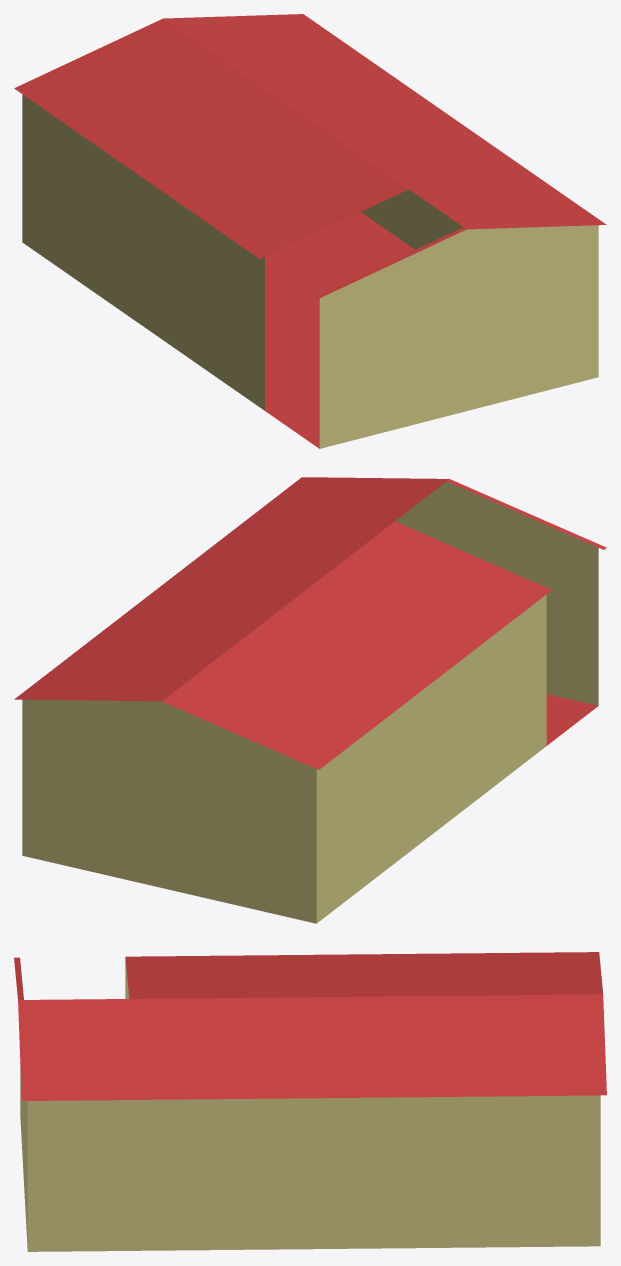
The picture shows the model from 3 angles, top to bottom: view 1: azimuth 30°, elevation 25°; view 2: azimuth 150°, elevation 25°; view 3: azimuth 270°, elevation 25°; orthographic projection. The views are drawn at different scales.
Size of the model in its own units: 14.55 by 24.47 by 8.43.
